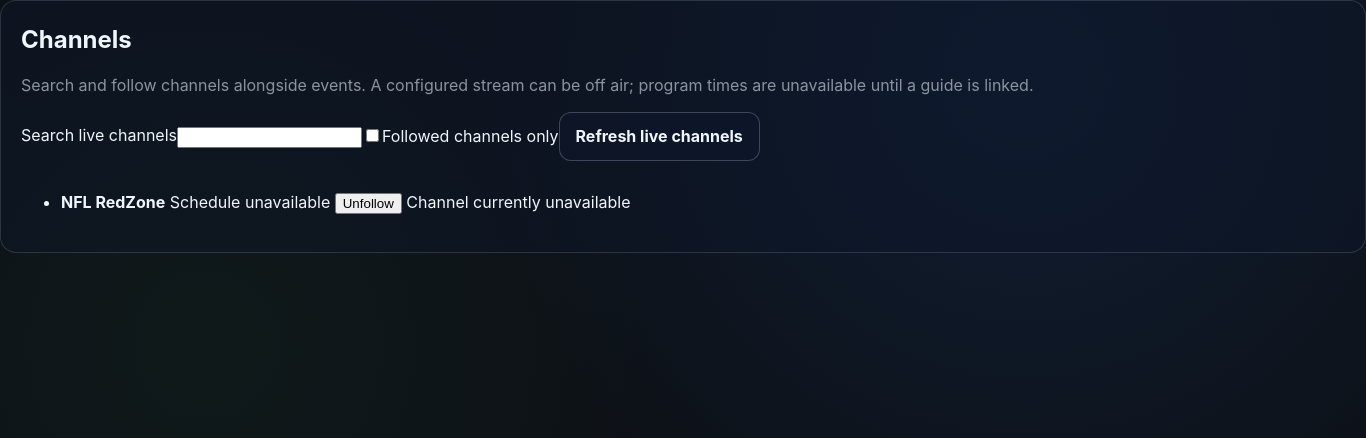
Test: durable channel follows › keeps disappeared saved channels removable without offering playback
What coordinates should you click on to do the following:
click the button "Unfollow"
I would click on:
 (368, 204)
Its box is [335,193,402,214].
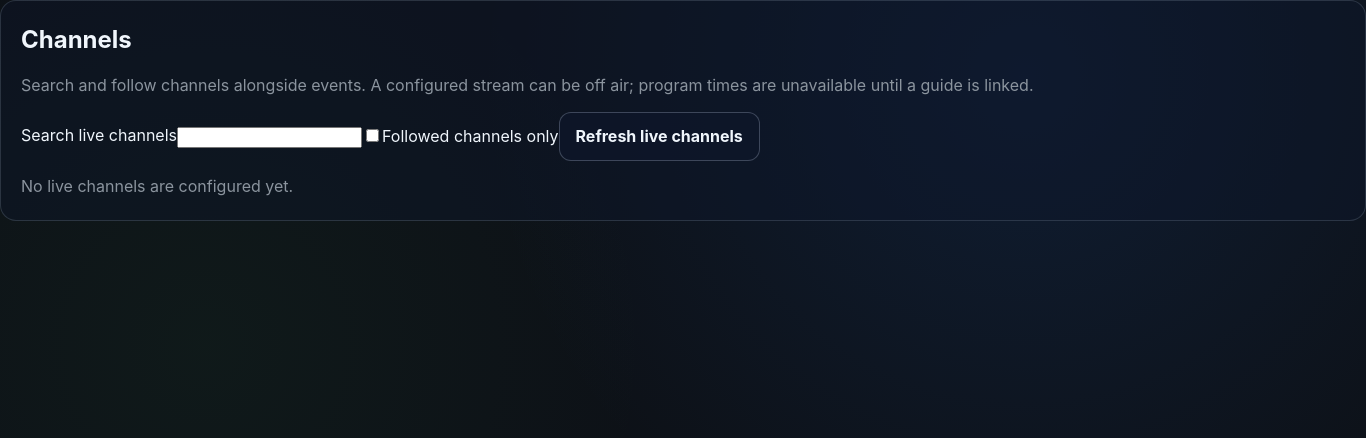
Expected: the text "NFL RedZone" is gone
